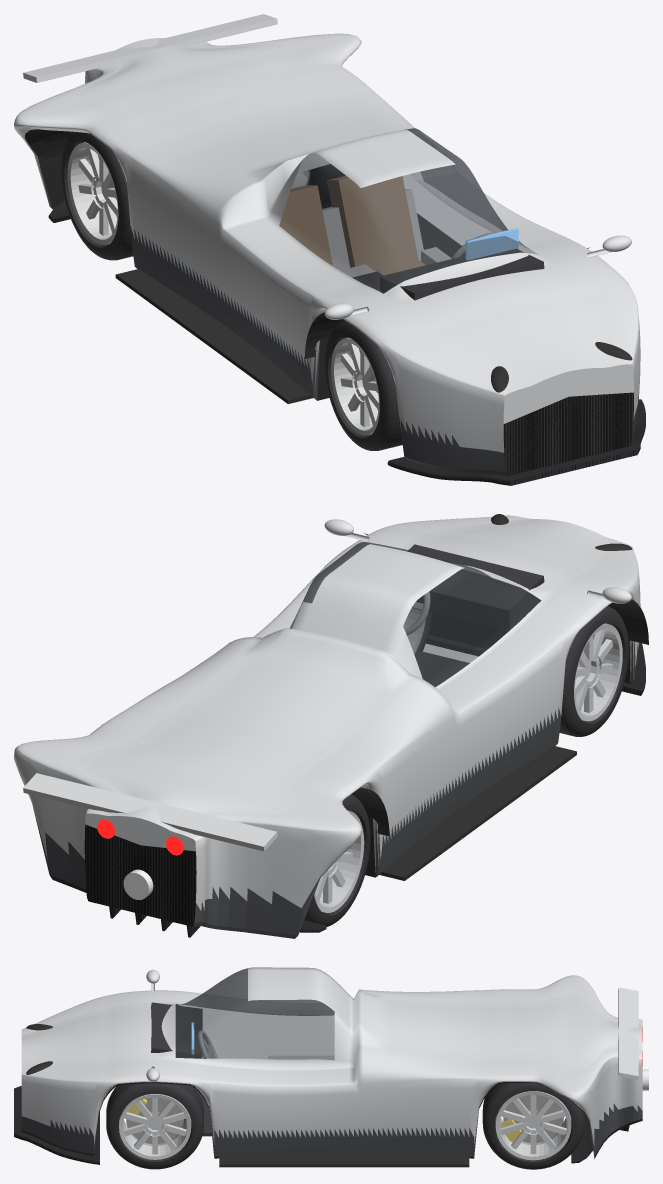
File: koenigsegg-cc850.glb
3 views of the same model, one above another, from view 1: azimuth 30°, elevation 25°; view 2: azimuth 150°, elevation 25°; view 3: azimuth 270°, elevation 25° (orthographic). The views are drawn at different scales.
Parts seen in each view (by area): view 1: Body_PrimaryPaint, Glass_Windows, Carbon_Exterior, Body_SecondaryPaint, Interior_Seats, WheelWells, Rim_RR, Tire_FR, Rim_FR, Body_Spoiler, Tire_RR, Interior_Dashboard (+5 smaller); view 2: Body_PrimaryPaint, Body_SecondaryPaint, Glass_Windows, Carbon_Exterior, WheelWells, Interior_Dashboard, Body_Spoiler, Rim_FR, Tire_FR, Underbody, Rim_RR, Tire_RR (+2 smaller); view 3: Body_PrimaryPaint, Glass_Windows, Body_SecondaryPaint, Tire_FL, Rim_RL, WheelWells, Rim_FL, Tire_RL, Interior_Dashboard, Carbon_Exterior, Body_Spoiler, Underbody (+5 smaller).
Boxes of the visible parts, bbox=[...] form: Body_PrimaryPaint: bbox=[14, 33, 640, 452]; Glass_Windows: bbox=[279, 128, 537, 293]; Carbon_Exterior: bbox=[48, 200, 645, 485]; Body_SecondaryPaint: bbox=[38, 160, 639, 475]; Interior_Seats: bbox=[279, 176, 425, 275]; WheelWells: bbox=[42, 130, 589, 403]; Rim_RR: bbox=[67, 142, 118, 244]; Tire_FR: bbox=[324, 320, 402, 450]; Rim_FR: bbox=[331, 337, 379, 435]; Body_Spoiler: bbox=[23, 14, 277, 82]; Tire_RR: bbox=[61, 131, 133, 260]; Interior_Dashboard: bbox=[379, 249, 544, 300]; Body_PrimaryPaint: bbox=[14, 515, 640, 910]; Body_SecondaryPaint: bbox=[33, 641, 638, 938]; Glass_Windows: bbox=[295, 542, 541, 686]; Carbon_Exterior: bbox=[84, 635, 645, 937]; WheelWells: bbox=[102, 533, 648, 880]; Interior_Dashboard: bbox=[408, 544, 544, 631]; Body_Spoiler: bbox=[23, 773, 277, 851]; Rim_FR: bbox=[574, 623, 622, 721]; Tire_FR: bbox=[559, 606, 628, 736]; Underbody: bbox=[50, 613, 630, 926]; Rim_RR: bbox=[314, 810, 364, 912]; Tire_RR: bbox=[304, 794, 370, 926]; Body_PrimaryPaint: bbox=[21, 967, 642, 1149]; Glass_Windows: bbox=[175, 968, 334, 1060]; Body_SecondaryPaint: bbox=[21, 1103, 642, 1157]; Tire_FL: bbox=[106, 1083, 203, 1169]; Rim_RL: bbox=[495, 1091, 571, 1160]; WheelWells: bbox=[219, 1154, 469, 1167]; Rim_FL: bbox=[119, 1094, 191, 1159]; Tire_RL: bbox=[482, 1082, 584, 1169]; Interior_Dashboard: bbox=[151, 1002, 202, 1058]; Carbon_Exterior: bbox=[14, 1086, 629, 1164]; Body_Spoiler: bbox=[618, 987, 638, 1079]; Underbody: bbox=[21, 1082, 642, 1158].
Size of the model in its own units: 2.03 by 1.12 by 4.46.
17 materials, 2 textured.
